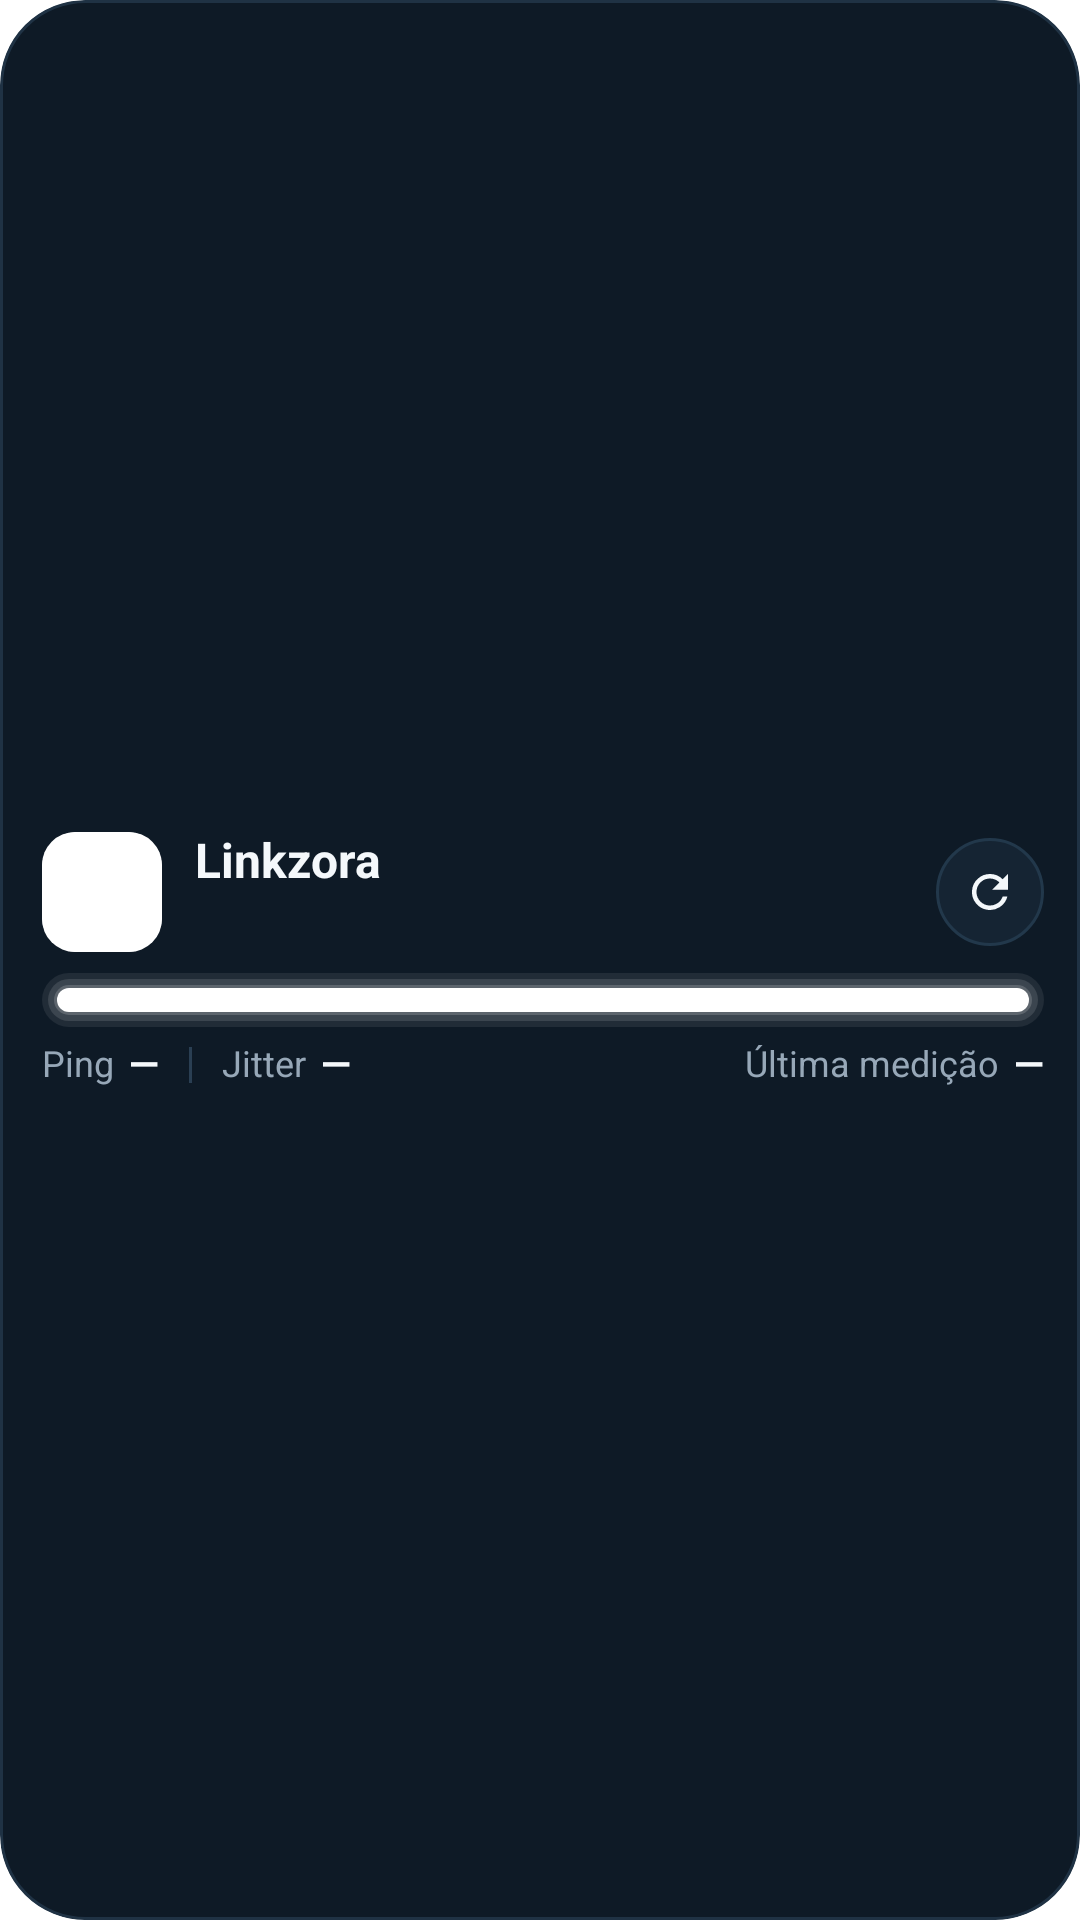

Locate icon controls on the screen. Image size 1080px x 1920px, boxes as (x1, y1, x2, y2).
Verificar agora: (936, 838, 1044, 946)
